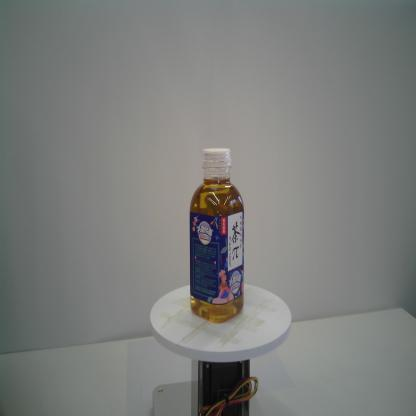Drink: (188, 147, 247, 324)
